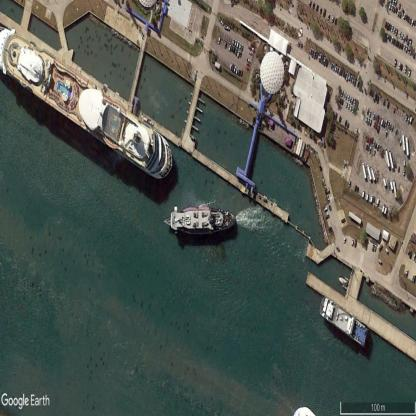ship: (0, 32, 173, 177), (318, 292, 372, 354), (165, 204, 236, 234)
